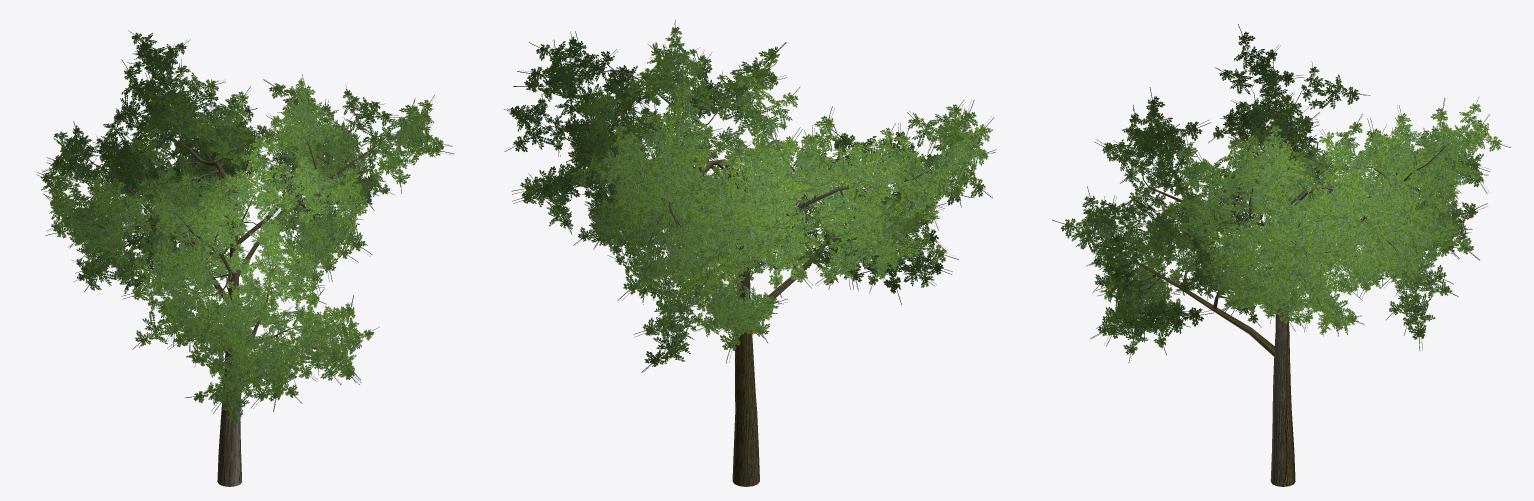
File: ash.glb
3 renders of one model, left to right at view 1: azimuth 30°, elevation 25°; view 2: azimuth 150°, elevation 25°; view 3: azimuth 270°, elevation 25°, orthographic. The views are drawn at different scales.
Visible parts, largest first — view 1: ash; view 2: ash; view 3: ash.
Part boxes in pixels (left/top/right/bottom): ash: left=36, top=30, right=453, bottom=486; ash: left=504, top=19, right=996, bottom=486; ash: left=1052, top=24, right=1510, bottom=486.
Size of the model in its own units: 12.01 by 10.5 by 11.45.
Materials: 2 (2 with a texture image).
